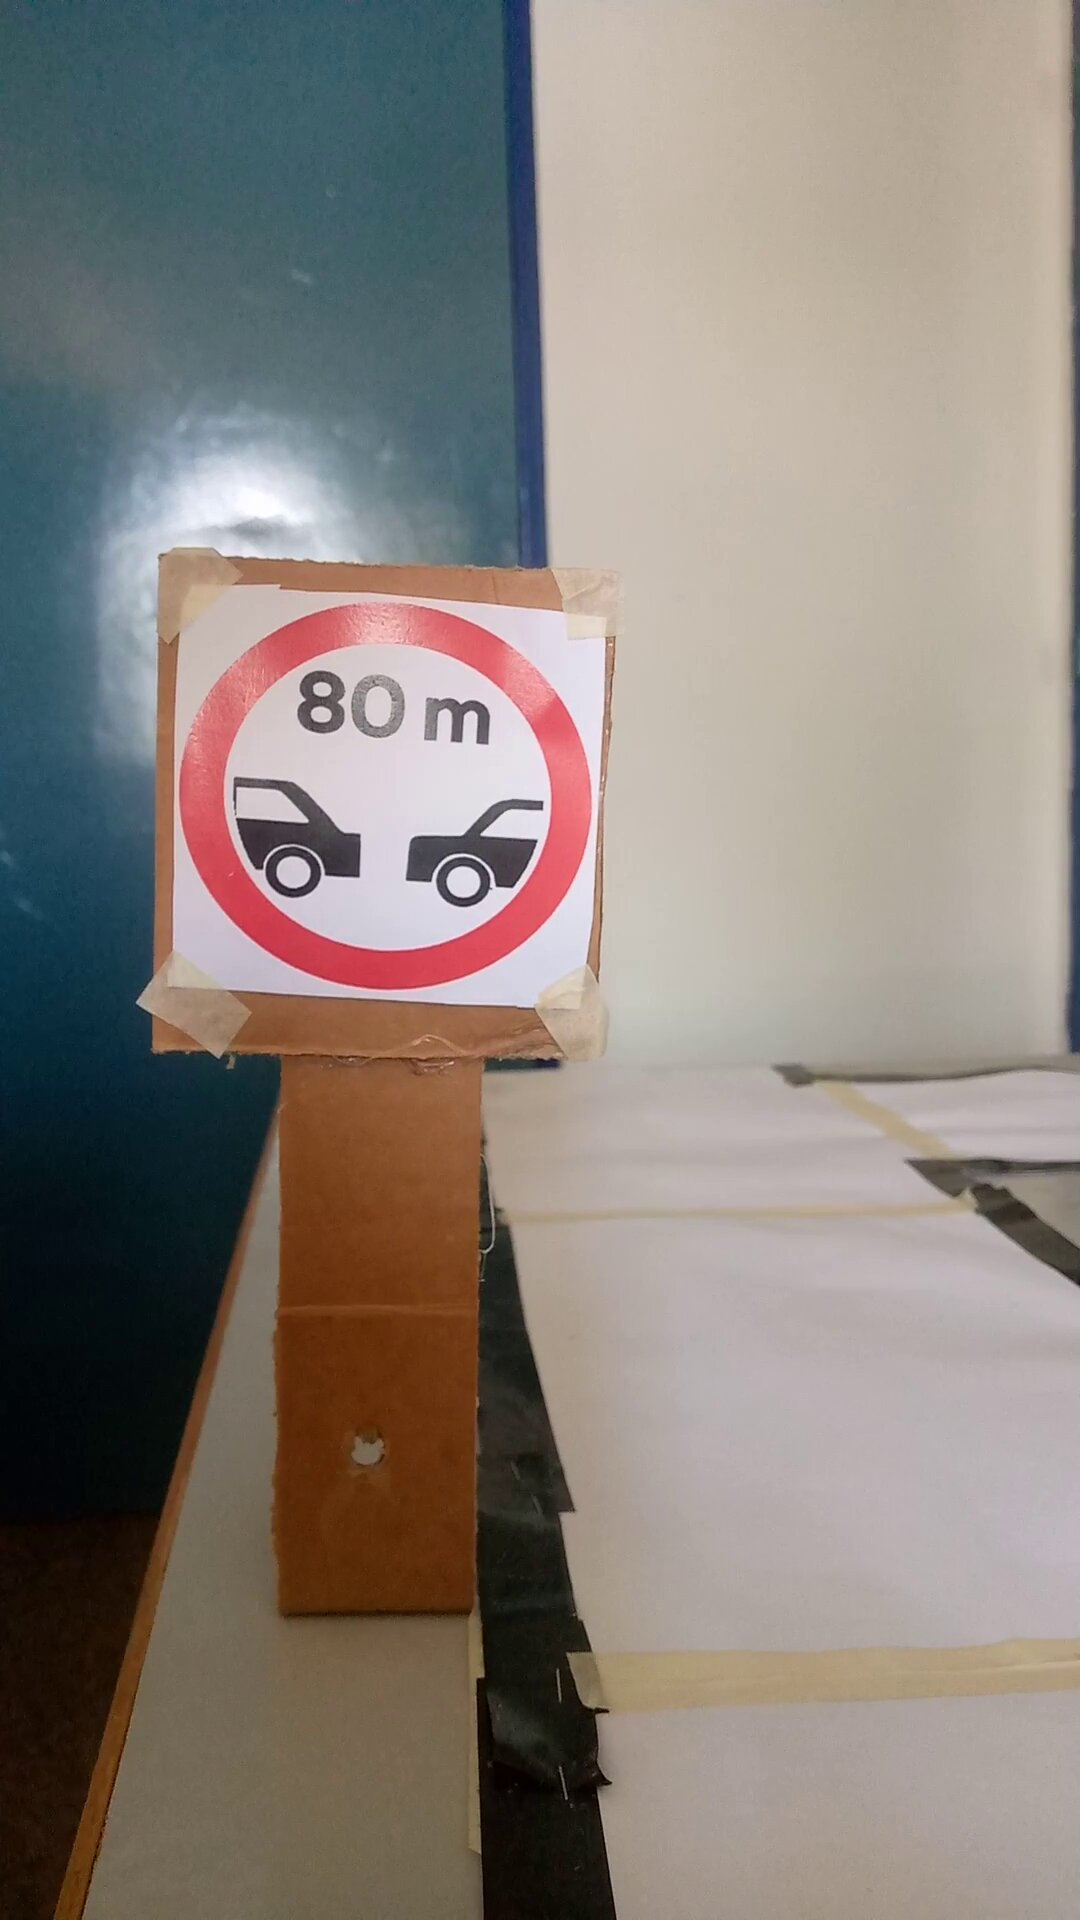panel001: (156, 554, 615, 1060)
